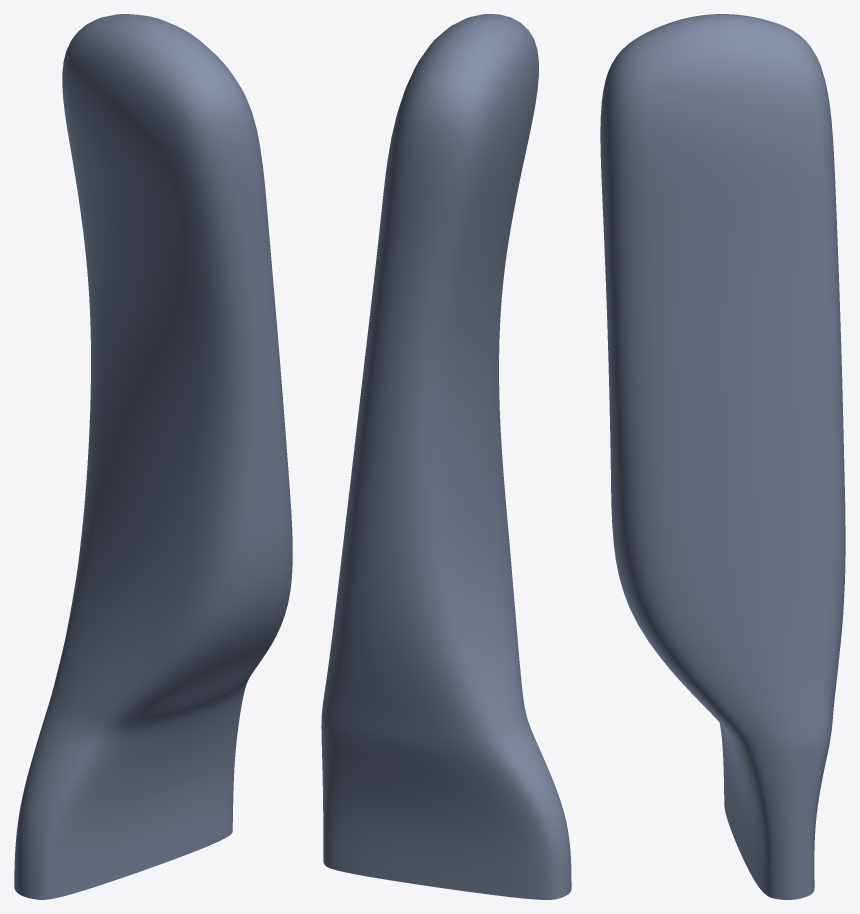
The model's file is weapon.001.gltf.
The picture shows the model from 3 angles, left to right: view 1: azimuth 30°, elevation 25°; view 2: azimuth 150°, elevation 25°; view 3: azimuth 270°, elevation 25°; orthographic projection. The views are drawn at different scales.
Visible parts, largest first — view 1: weapon.001; view 2: weapon.001; view 3: weapon.001.
Part boxes in pixels (x1,y1,x2,y2): weapon.001: [14, 14, 292, 899]; weapon.001: [321, 14, 571, 899]; weapon.001: [600, 14, 845, 899].
Bounding box in the file's own units: 0.00546 × 0.0193 × 0.00519.
